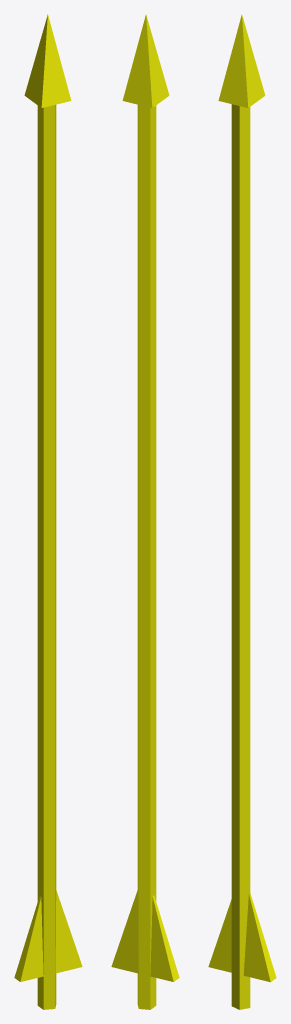
Rendered from _arrow_c_24.glb.
3 renders of one model, left to right at view 1: azimuth 30°, elevation 25°; view 2: azimuth 150°, elevation 25°; view 3: azimuth 330°, elevation 25°, orthographic.
Visible parts, largest first — view 1: arrow_c_24; view 2: arrow_c_24; view 3: arrow_c_24.
Part boxes in pixels (x1,y1,x2,y2): arrow_c_24: (14, 14, 82, 1009); arrow_c_24: (111, 14, 179, 1009); arrow_c_24: (208, 14, 276, 1009).
Bounding box in the file's own units: 1242 × 18882 × 592.
